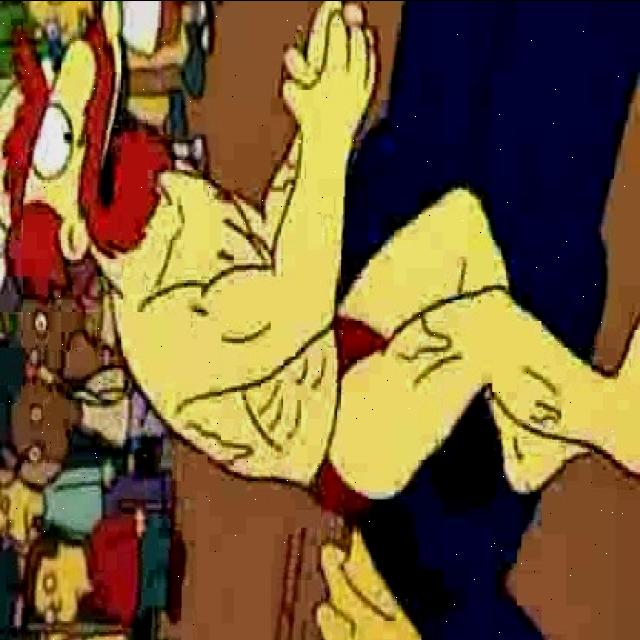Groundskeeper Willie: (0, 5, 183, 306)
